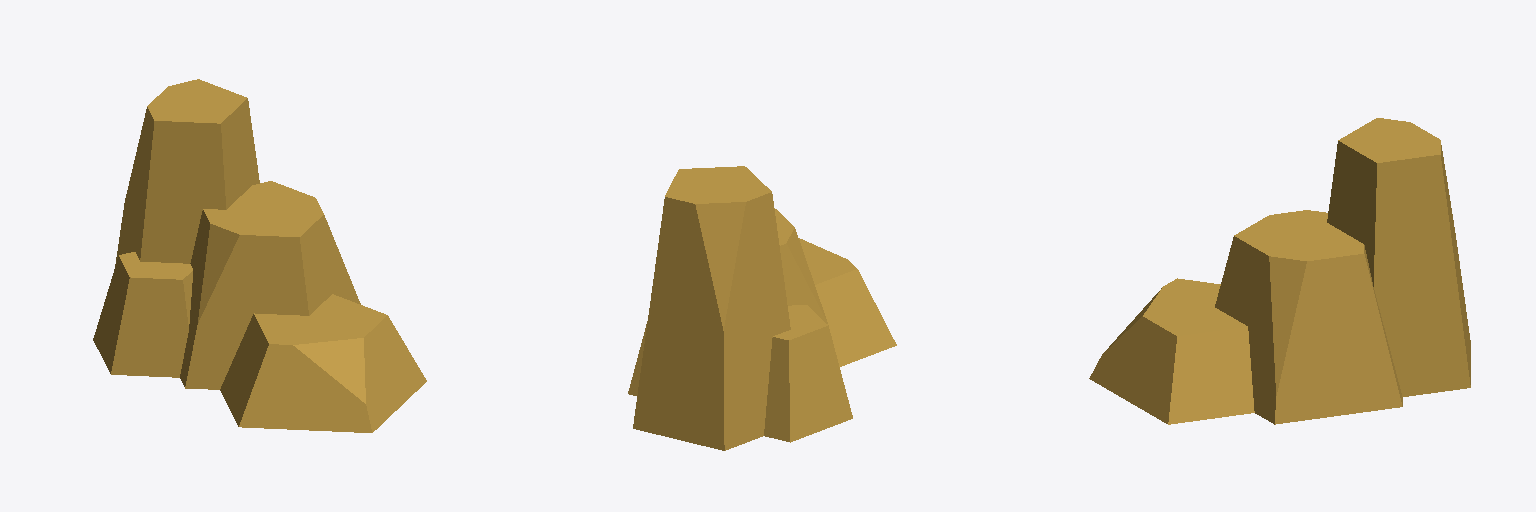
Rendered from rockC9.obj.
The picture shows the model from 3 angles: view 1: azimuth 30°, elevation 25°; view 2: azimuth 150°, elevation 25°; view 3: azimuth 270°, elevation 25°; orthographic projection.
Visible parts, largest first — view 1: rockC2; view 2: rockC2; view 3: rockC2.
Part boxes in pixels (x1,y1,x2,y2): rockC2: (93, 79, 426, 432); rockC2: (628, 166, 896, 450); rockC2: (1089, 118, 1470, 424).
Bounding box in the file's own units: 2.19 × 2.04 × 3.13.